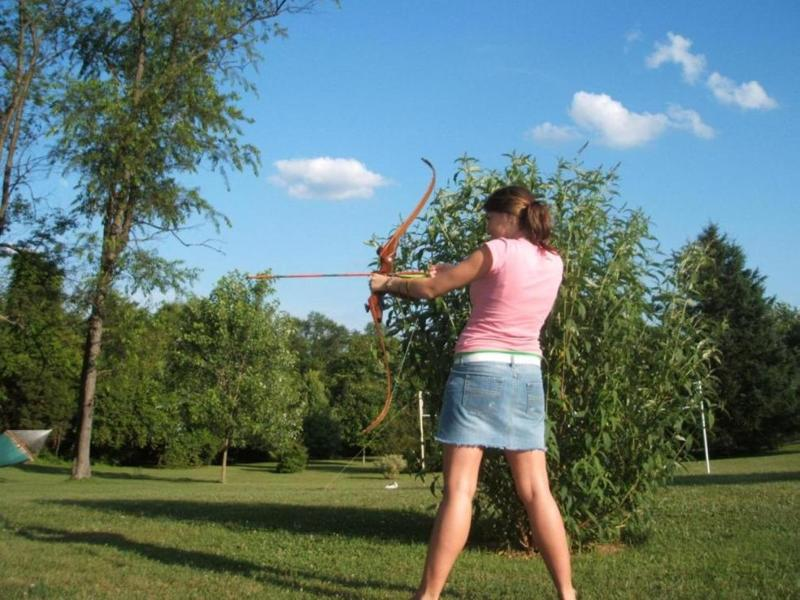person: (366, 180, 583, 599)
